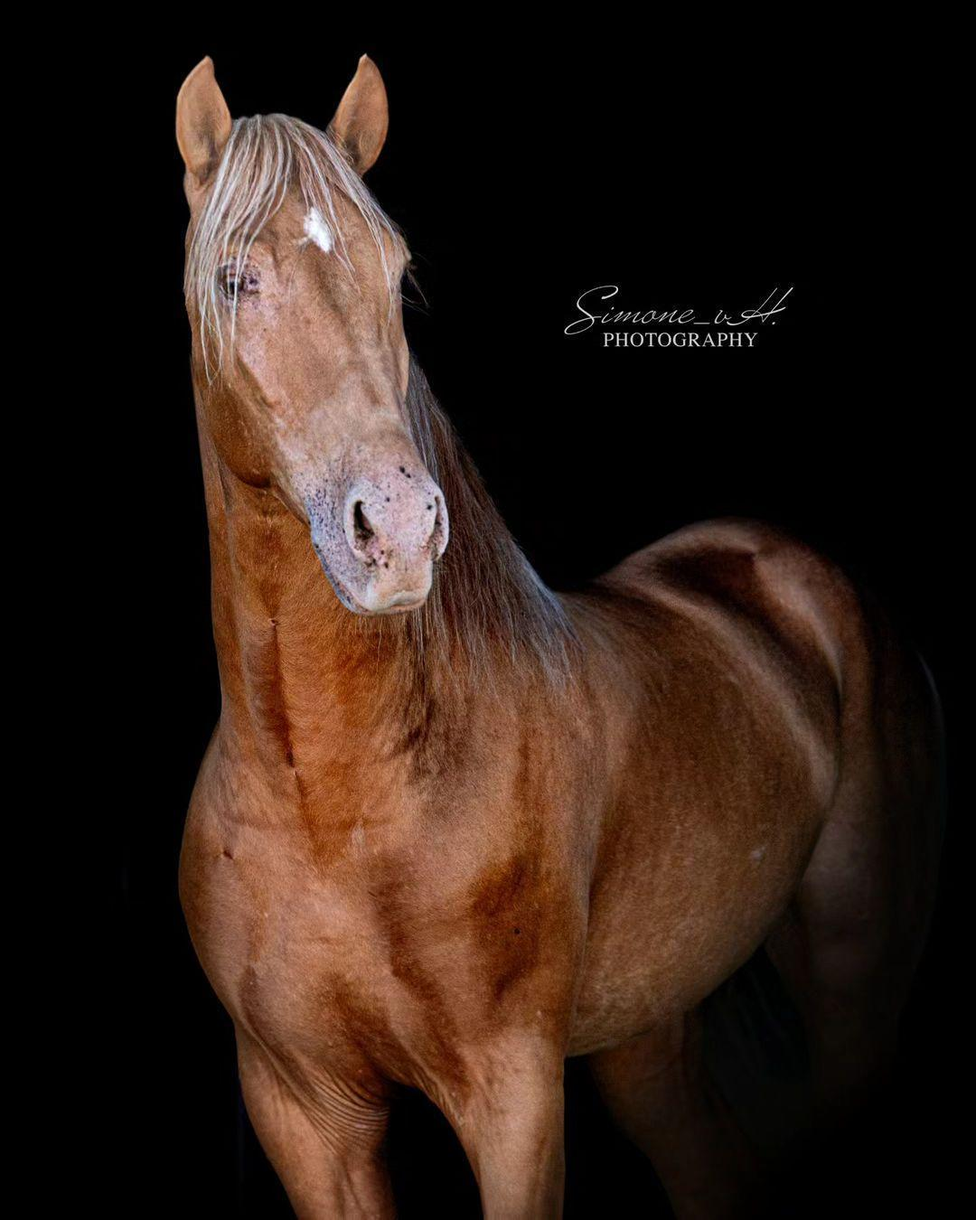horse: (172, 51, 944, 1217)
